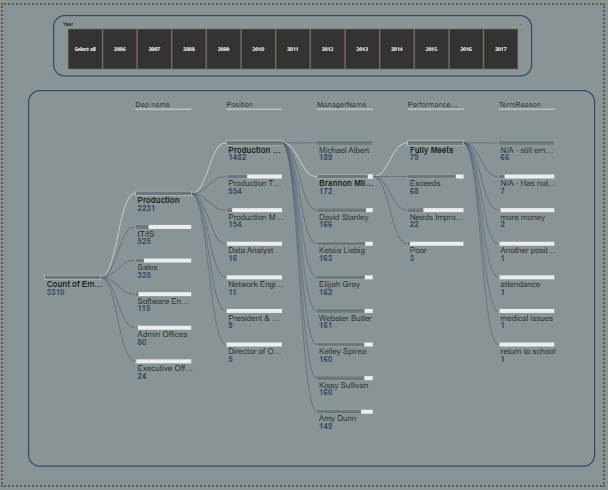

The page's visual inventory and layout, read from the dashboard file:
{"tool":"powerbi","page":{"name":"Hierarchy","canvas":[1500,1200],"ordinal":4},"visuals":[{"type":"decompositionTreeVisual","fields":{"Analyze":["Count(HR main table.EmpID)"],"ExplainBy":["Dep name.Dep name","Position.Position","Manager name.ManagerName","HR main table.PerformanceScore","HR main table.TermReason"]},"box":[61.7,211.7,1418.3,941.7],"z":0},{"type":"slicer","fields":{"Values":["HR main table.DateofHire.Variation.Date Hierarchy.Year"]},"box":[126,24,1198,154],"z":1000}]}

Visuals, with their boxes in screenshot pixels (x1, y1, x2, y2), scaled from the page's 1500x1200 canvas onto the 608x490 screenshot:
decompositionTreeVisual - Count(HR main table.EmpID) x Dep name.Dep name: 25,86,600,471
slicer - HR main table.DateofHire.Variation.Date Hierarchy.Year: 51,10,537,73
